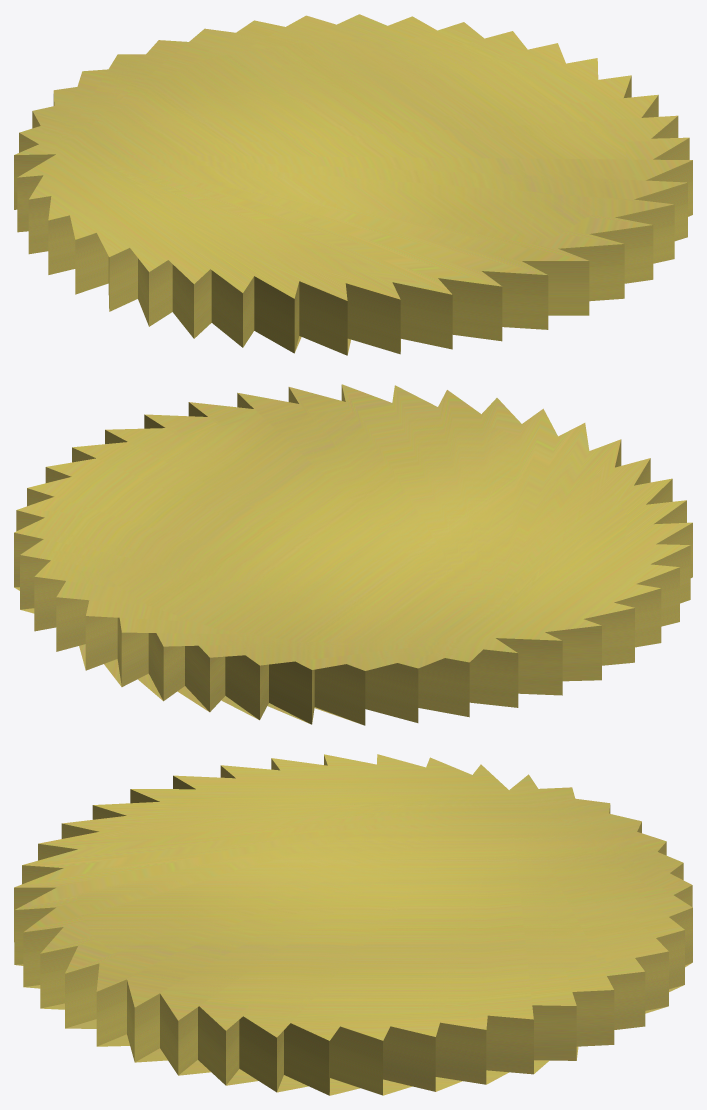
The model's file is ClockAngleFacet5Spoke040.fbx.
The picture shows the model from 3 angles, top to bottom: view 1: azimuth 30°, elevation 25°; view 2: azimuth 150°, elevation 25°; view 3: azimuth 270°, elevation 25°; orthographic projection.
Parts seen in each view (by area): view 1: ClockAngleFacet5Spoke040; view 2: ClockAngleFacet5Spoke040; view 3: ClockAngleFacet5Spoke040.
Part boxes in pixels (bbox=[...]): ClockAngleFacet5Spoke040: bbox=[14, 14, 692, 355]; ClockAngleFacet5Spoke040: bbox=[14, 384, 692, 725]; ClockAngleFacet5Spoke040: bbox=[14, 754, 692, 1095].
Size of the model in its own units: 221 by 19.69 by 221.
